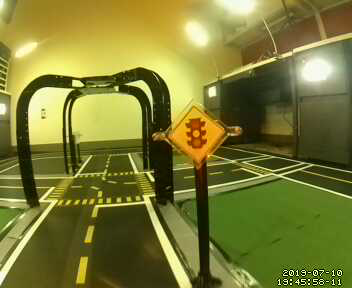Traffic light sign: (166, 103, 226, 163)
